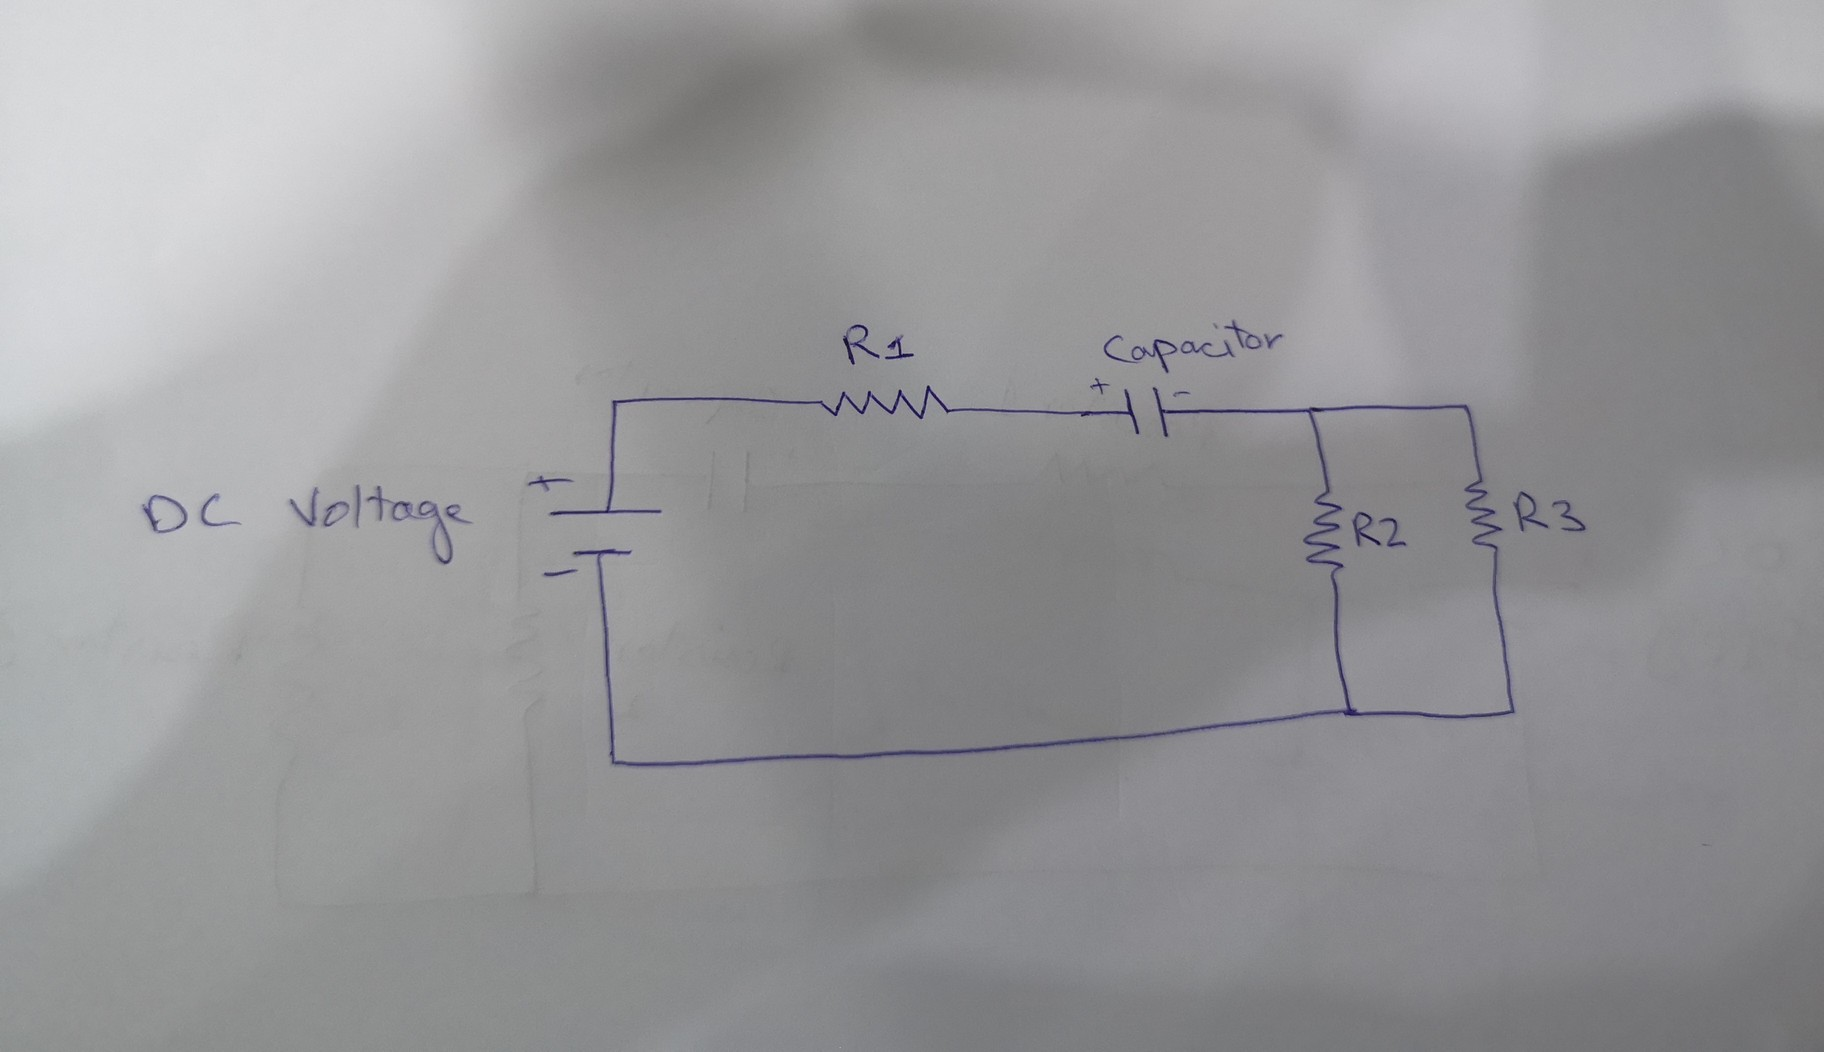capacitor.polarized: (1085, 374, 1203, 441)
junction: (1332, 698, 1367, 728), (600, 744, 630, 775), (1498, 693, 1527, 723), (1451, 396, 1479, 421), (1297, 401, 1325, 425), (603, 391, 626, 417)
resistor: (814, 384, 958, 422), (1300, 483, 1348, 580), (1461, 475, 1502, 555)
text: (127, 478, 481, 571), (1097, 311, 1288, 378), (1508, 490, 1590, 537), (837, 321, 916, 364), (1350, 507, 1409, 551)
voltage.dc: (541, 498, 669, 564)
